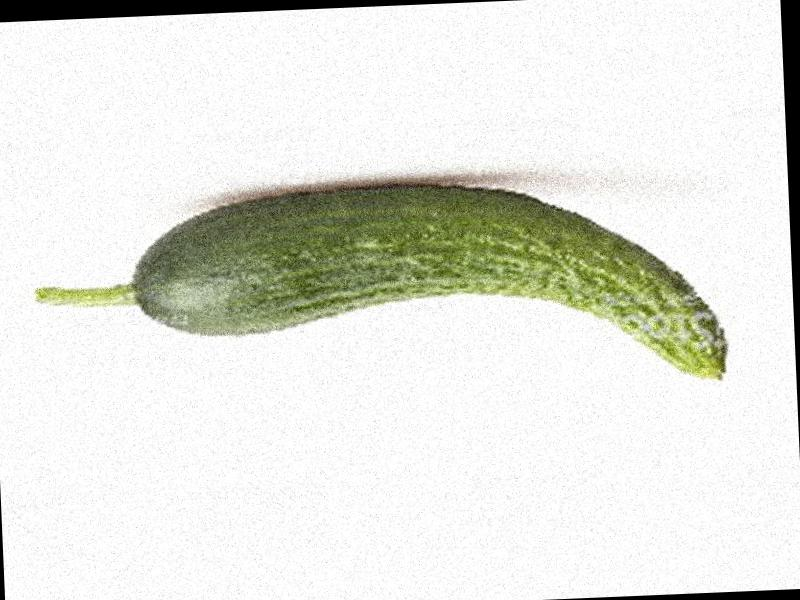Cucumber: (29, 171, 728, 406)
